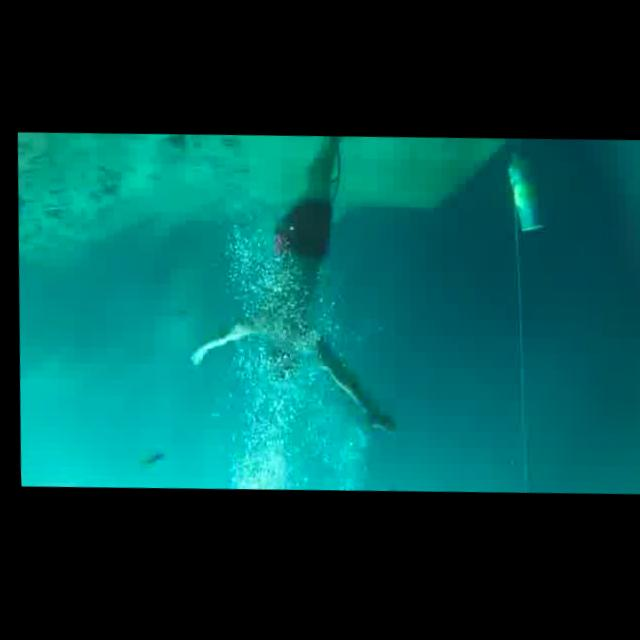human: (171, 131, 404, 446)
